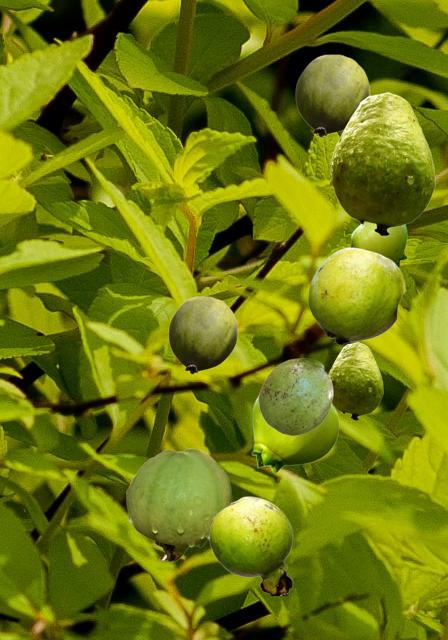guava: (329, 92, 434, 235), (126, 448, 231, 561), (308, 247, 404, 344), (209, 496, 292, 594), (251, 396, 338, 472), (295, 54, 369, 136), (258, 358, 332, 434), (168, 296, 237, 373), (328, 342, 382, 419), (350, 223, 406, 267)
